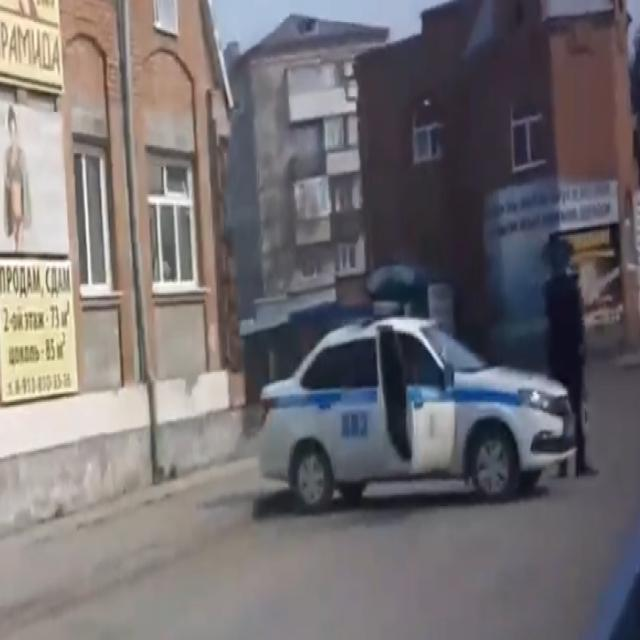police car: (260, 317, 576, 509)
